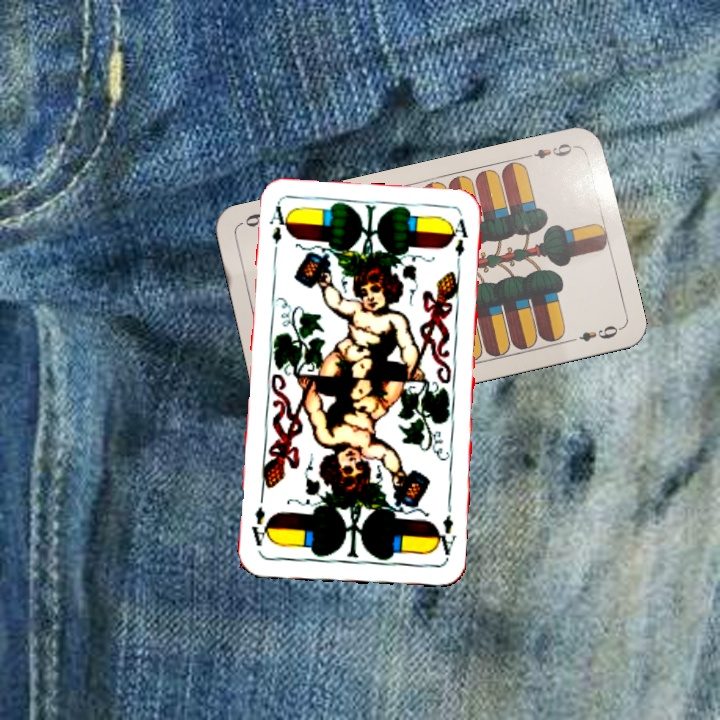E9: (520, 139, 579, 162)
EA: (265, 202, 292, 261), (431, 511, 459, 562)
